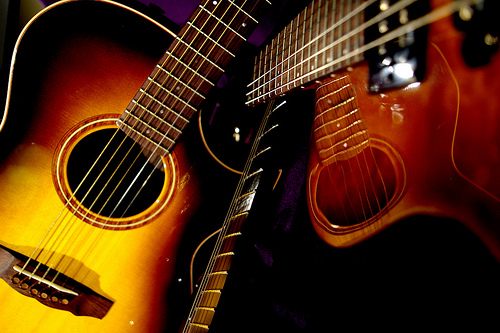guitar: (1, 2, 271, 329), (304, 55, 500, 267)
